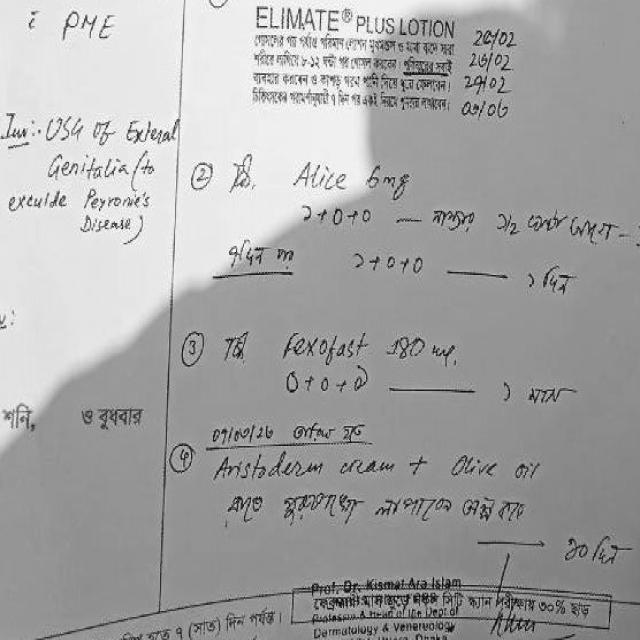medicine: (274, 323, 374, 368), (206, 449, 334, 484), (294, 153, 350, 198)
